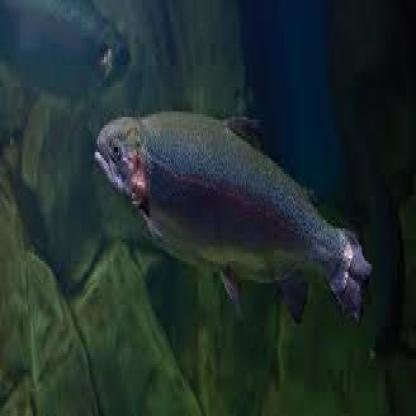fish: (90, 106, 374, 328)
